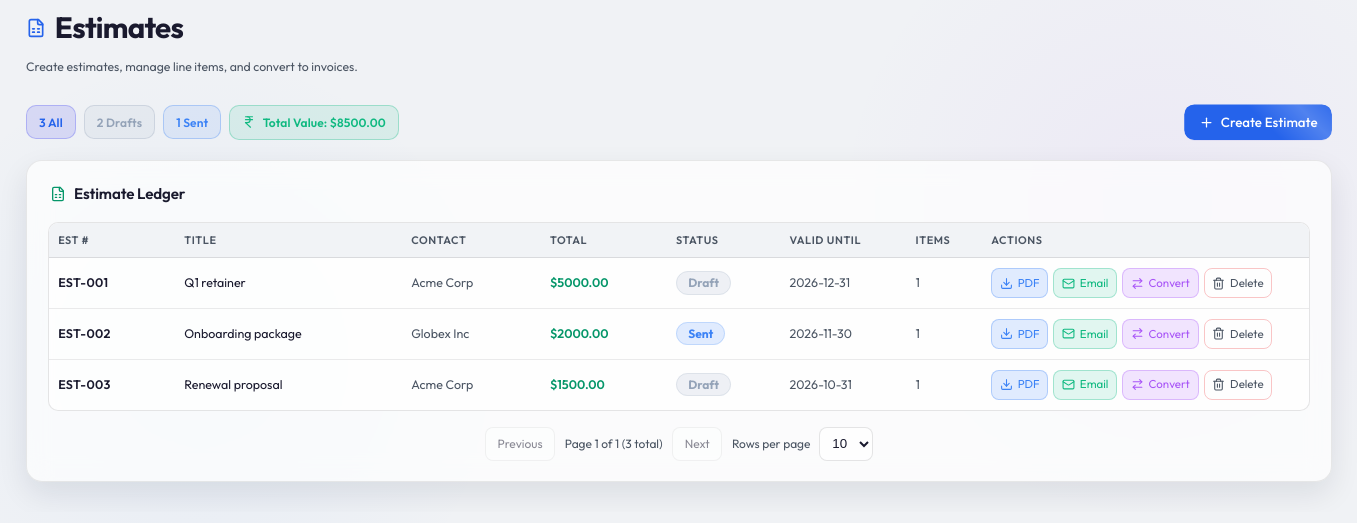
<Estimates /> — page surface › clicking the "Sent" status pill filters the ledger to Sent rows only
Check: the text "EST-001" is shown, box [48,258,175,309]
Check: the text "EST-002" is shown, box [48,309,175,360]
// Click Sent pill (button shows "1 Sent" — there's one Sent estimate).
Click the button "1 Sent" at [192, 122], box [163,105,221,139]
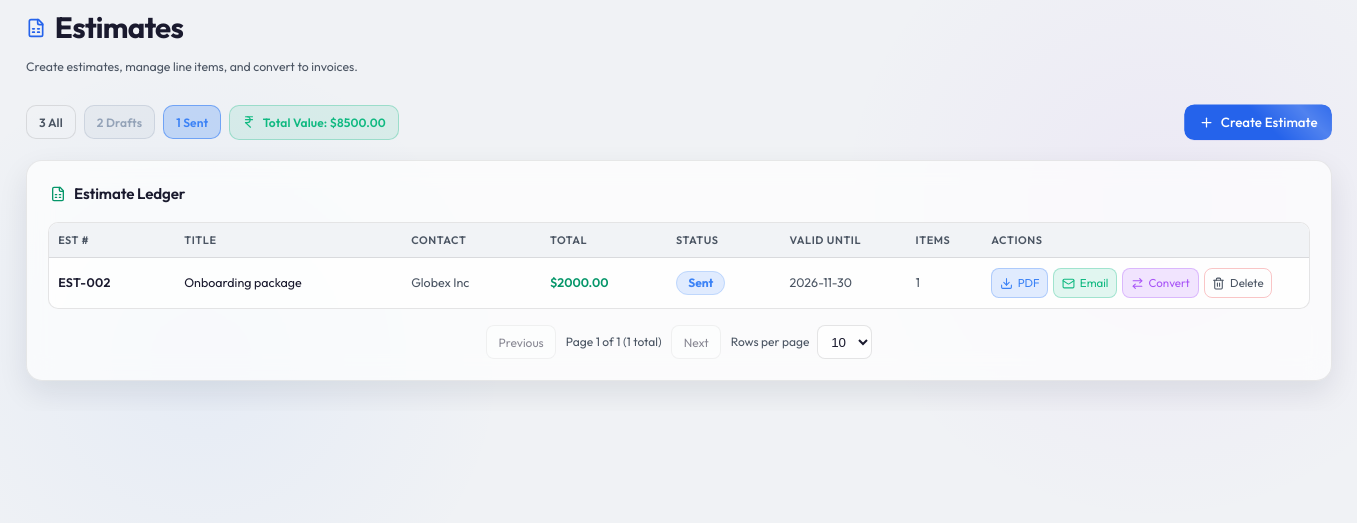
Check: the text "EST-002" is shown, box [48,258,175,308]
Check: the text "EST-001" is gone
Check: the text "EST-003" is gone
